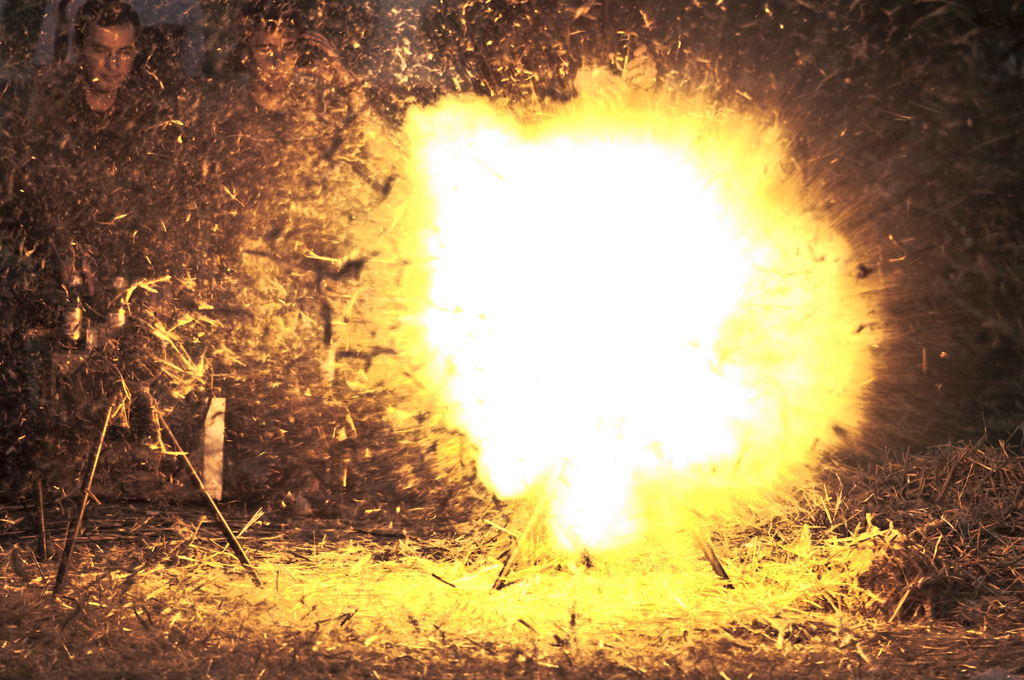face: (80, 23, 137, 84)
